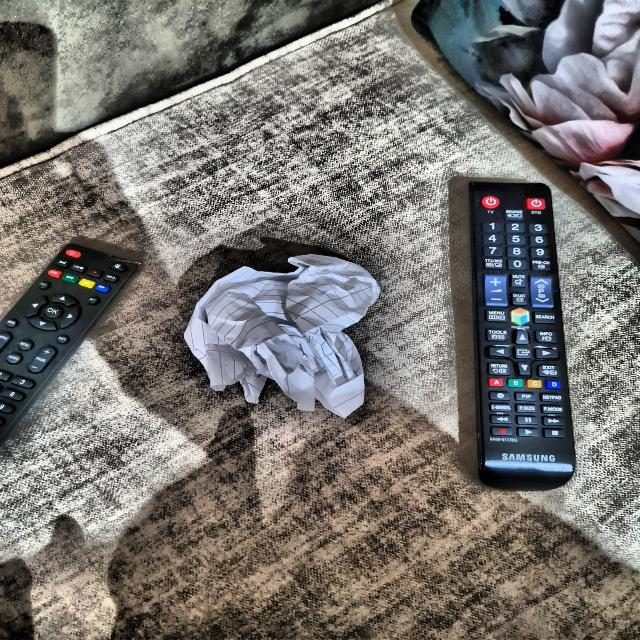Paper: (189, 254, 382, 418)
